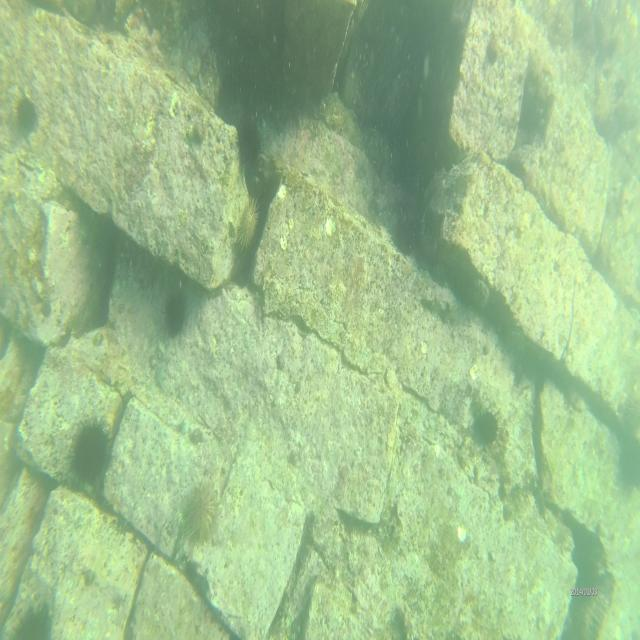echinus: (66, 414, 112, 492), (181, 475, 219, 550), (11, 598, 54, 638), (232, 195, 261, 254), (472, 406, 500, 451), (162, 294, 188, 339), (239, 120, 263, 164), (16, 98, 38, 138), (483, 34, 503, 65)
